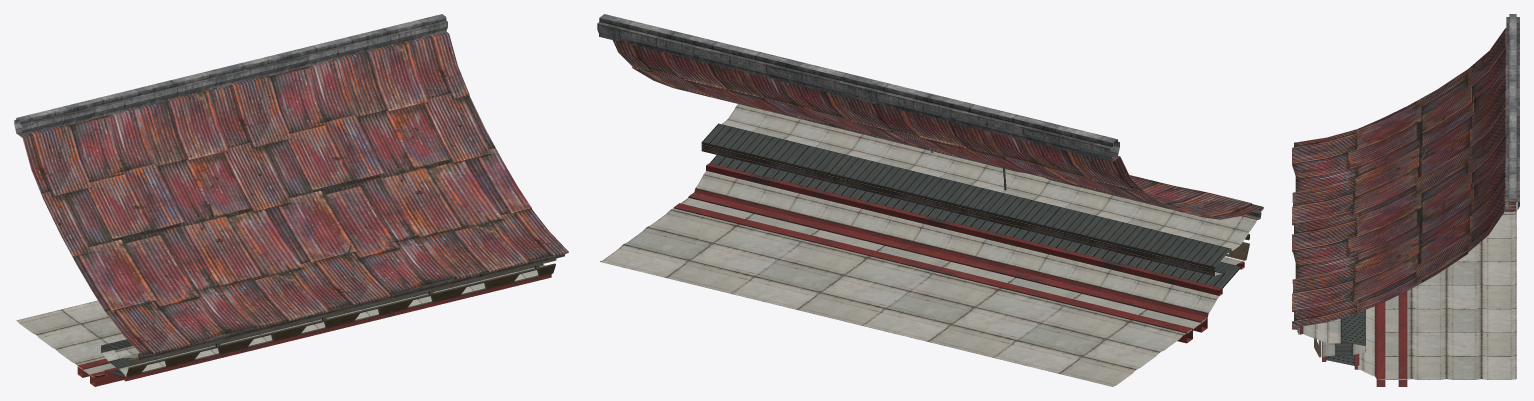
The model's file is Pagoda_Tile_Roof_10000x5000_A.FBX.
3 renders of one model, left to right at view 1: azimuth 30°, elevation 25°; view 2: azimuth 150°, elevation 25°; view 3: azimuth 270°, elevation 25°, orthographic. The views are drawn at different scales.
Visible parts, largest first — view 1: Geometry_Pagoda_Tile_Roof_5000x10000_A_LOD00; view 2: Geometry_Pagoda_Tile_Roof_5000x10000_A_LOD00; view 3: Geometry_Pagoda_Tile_Roof_5000x10000_A_LOD00.
Boxes of the visible parts, box(x1,y1,x2,y2) form: Geometry_Pagoda_Tile_Roof_5000x10000_A_LOD00: box(14, 14, 568, 386); Geometry_Pagoda_Tile_Roof_5000x10000_A_LOD00: box(597, 14, 1263, 386); Geometry_Pagoda_Tile_Roof_5000x10000_A_LOD00: box(1292, 14, 1519, 386).
Size of what is drawn, in the model's own units: 10000 by 4742 by 5210.
4 materials, 4 textured.
